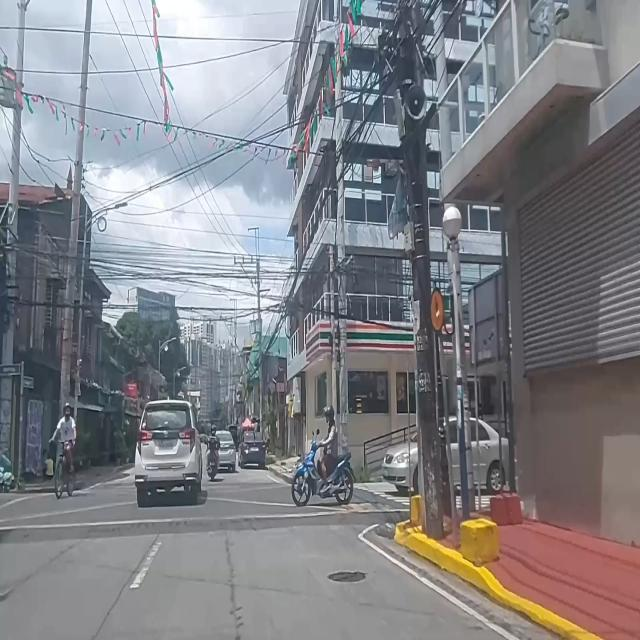bike: (50, 404, 76, 498)
car: (380, 417, 508, 494), (134, 398, 203, 506), (238, 431, 266, 468), (216, 430, 236, 472)
motorcycle: (291, 406, 354, 506), (207, 426, 220, 480)
